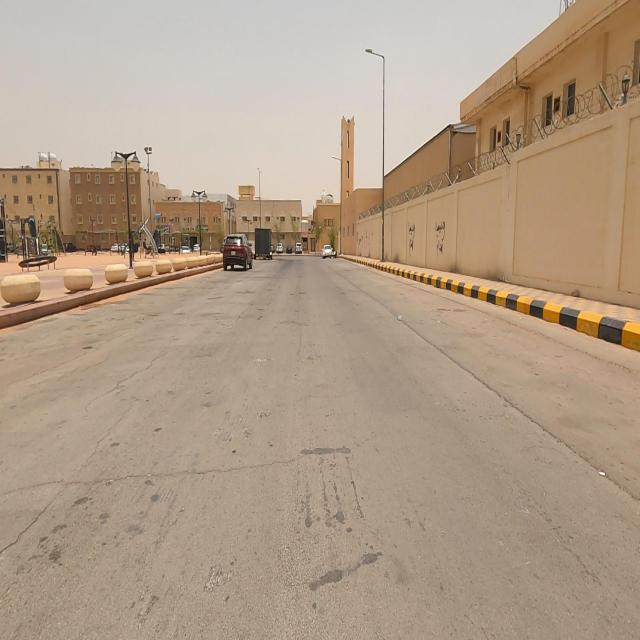Graffiti: (436, 220, 446, 257), (409, 225, 416, 259)
